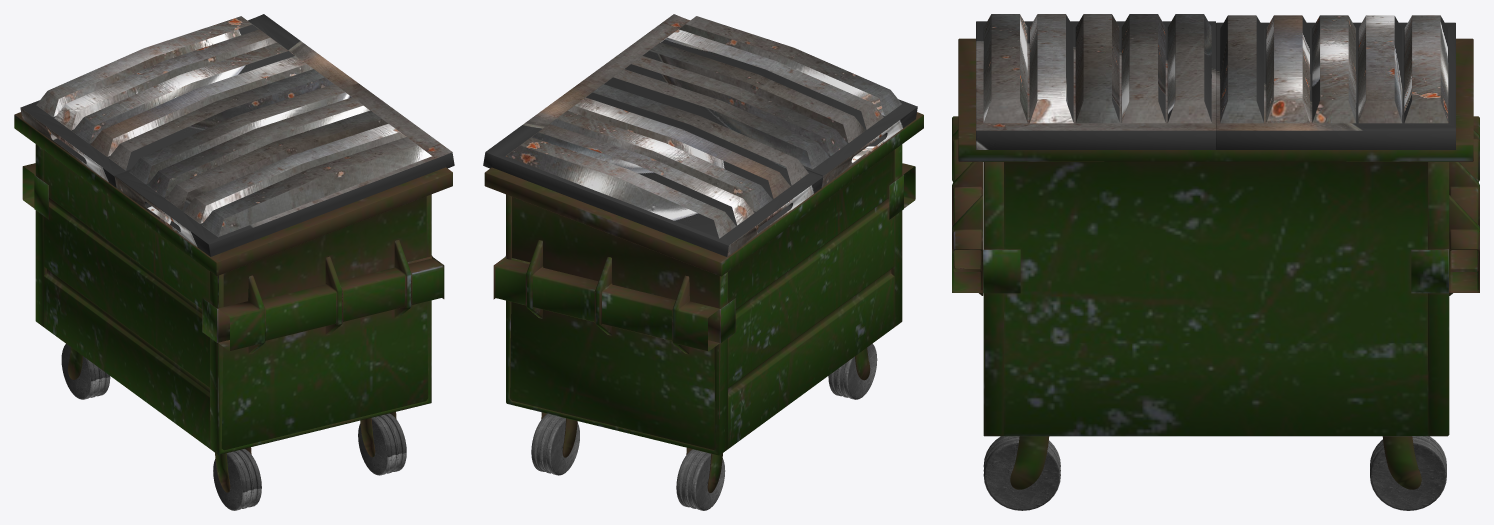
File: Trash can.fbx
3 views of the same model, side by side, from view 1: azimuth 30°, elevation 25°; view 2: azimuth 150°, elevation 25°; view 3: azimuth 270°, elevation 25° (orthographic). The views are drawn at different scales.
Visible parts, largest first — view 1: Cube_020, Cube_002, Cube_018, on_sag_wheel, on_sol_wheel, arka_sag_wheel; view 2: Cube_020, Cube_018, Cube_002, arka_sag_wheel, arka_sol_wheel, on_sag_wheel; view 3: Cube_020, Cube_002, Cube_018, on_sol_wheel, arka_sol_wheel.
Boxes of the visible parts, x1,y1,x2,y2 form: Cube_020: (14, 112, 452, 492); Cube_002: (114, 83, 454, 256); Cube_018: (20, 14, 357, 187); on_sag_wheel: (213, 449, 261, 510); on_sol_wheel: (358, 413, 406, 475); arka_sag_wheel: (61, 344, 110, 399); Cube_020: (484, 112, 923, 492); Cube_018: (483, 83, 823, 256); Cube_002: (580, 14, 917, 187); arka_sag_wheel: (676, 449, 725, 510); arka_sol_wheel: (531, 414, 579, 475); on_sag_wheel: (828, 343, 877, 399); Cube_020: (952, 38, 1479, 489); Cube_002: (976, 14, 1215, 149); Cube_018: (1216, 15, 1455, 149); on_sol_wheel: (983, 436, 1060, 510); arka_sol_wheel: (1370, 436, 1446, 510).
Size of the model in its own units: 128 by 164 by 187.
